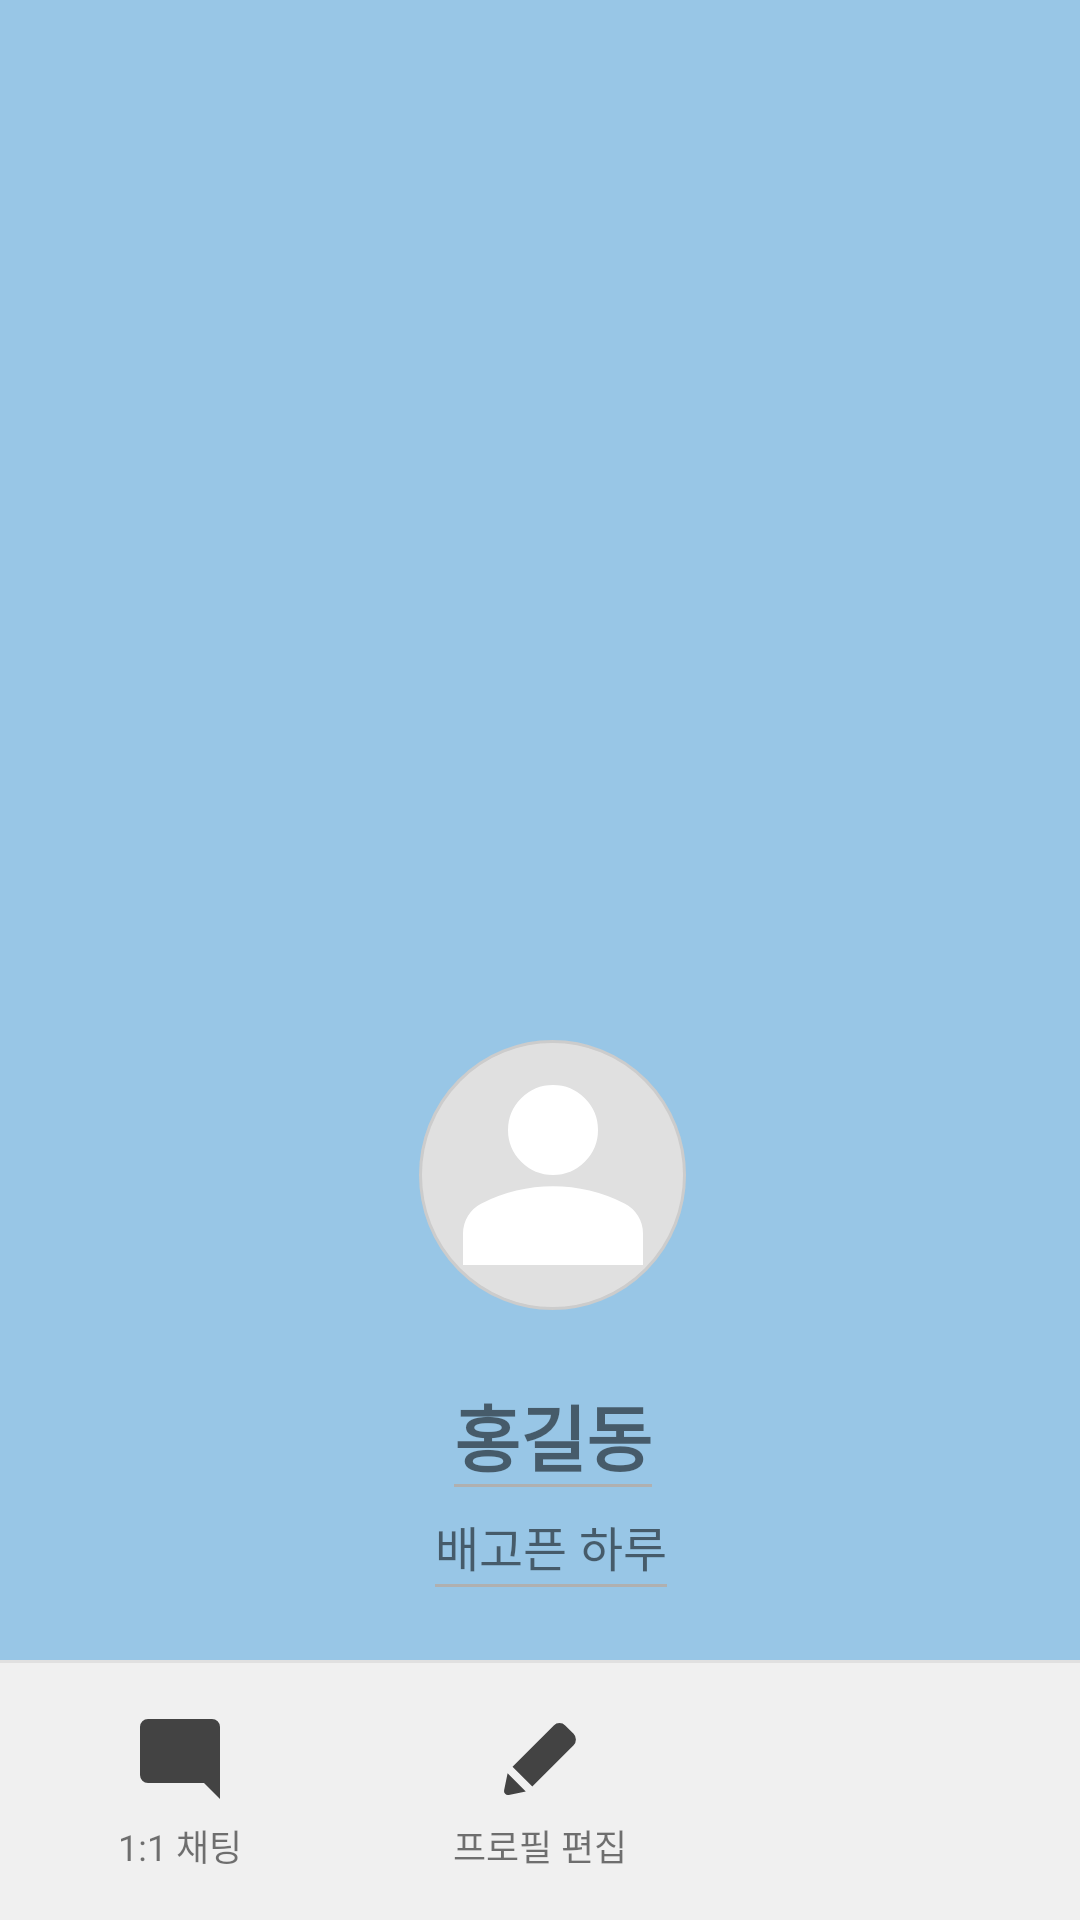

Where icons sit on this 1080*1920 app screen, as detection(x1, y1, x2, y2):
profile: detection(419, 1040, 686, 1310)
